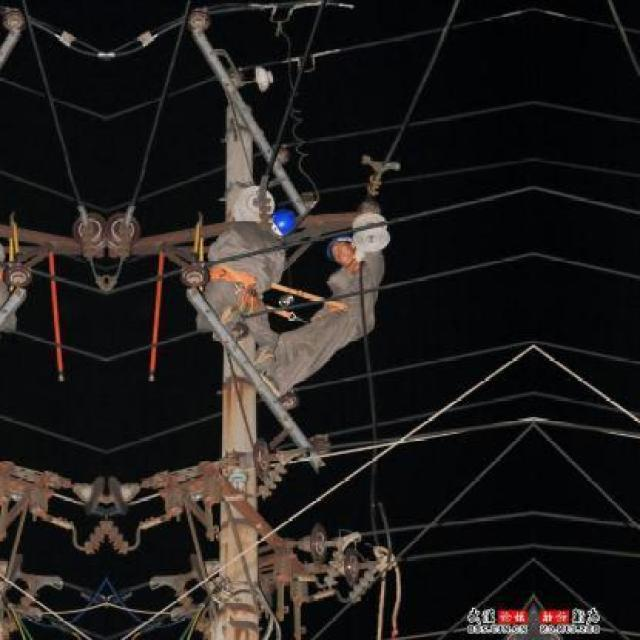helmet: (267, 197, 305, 243)
